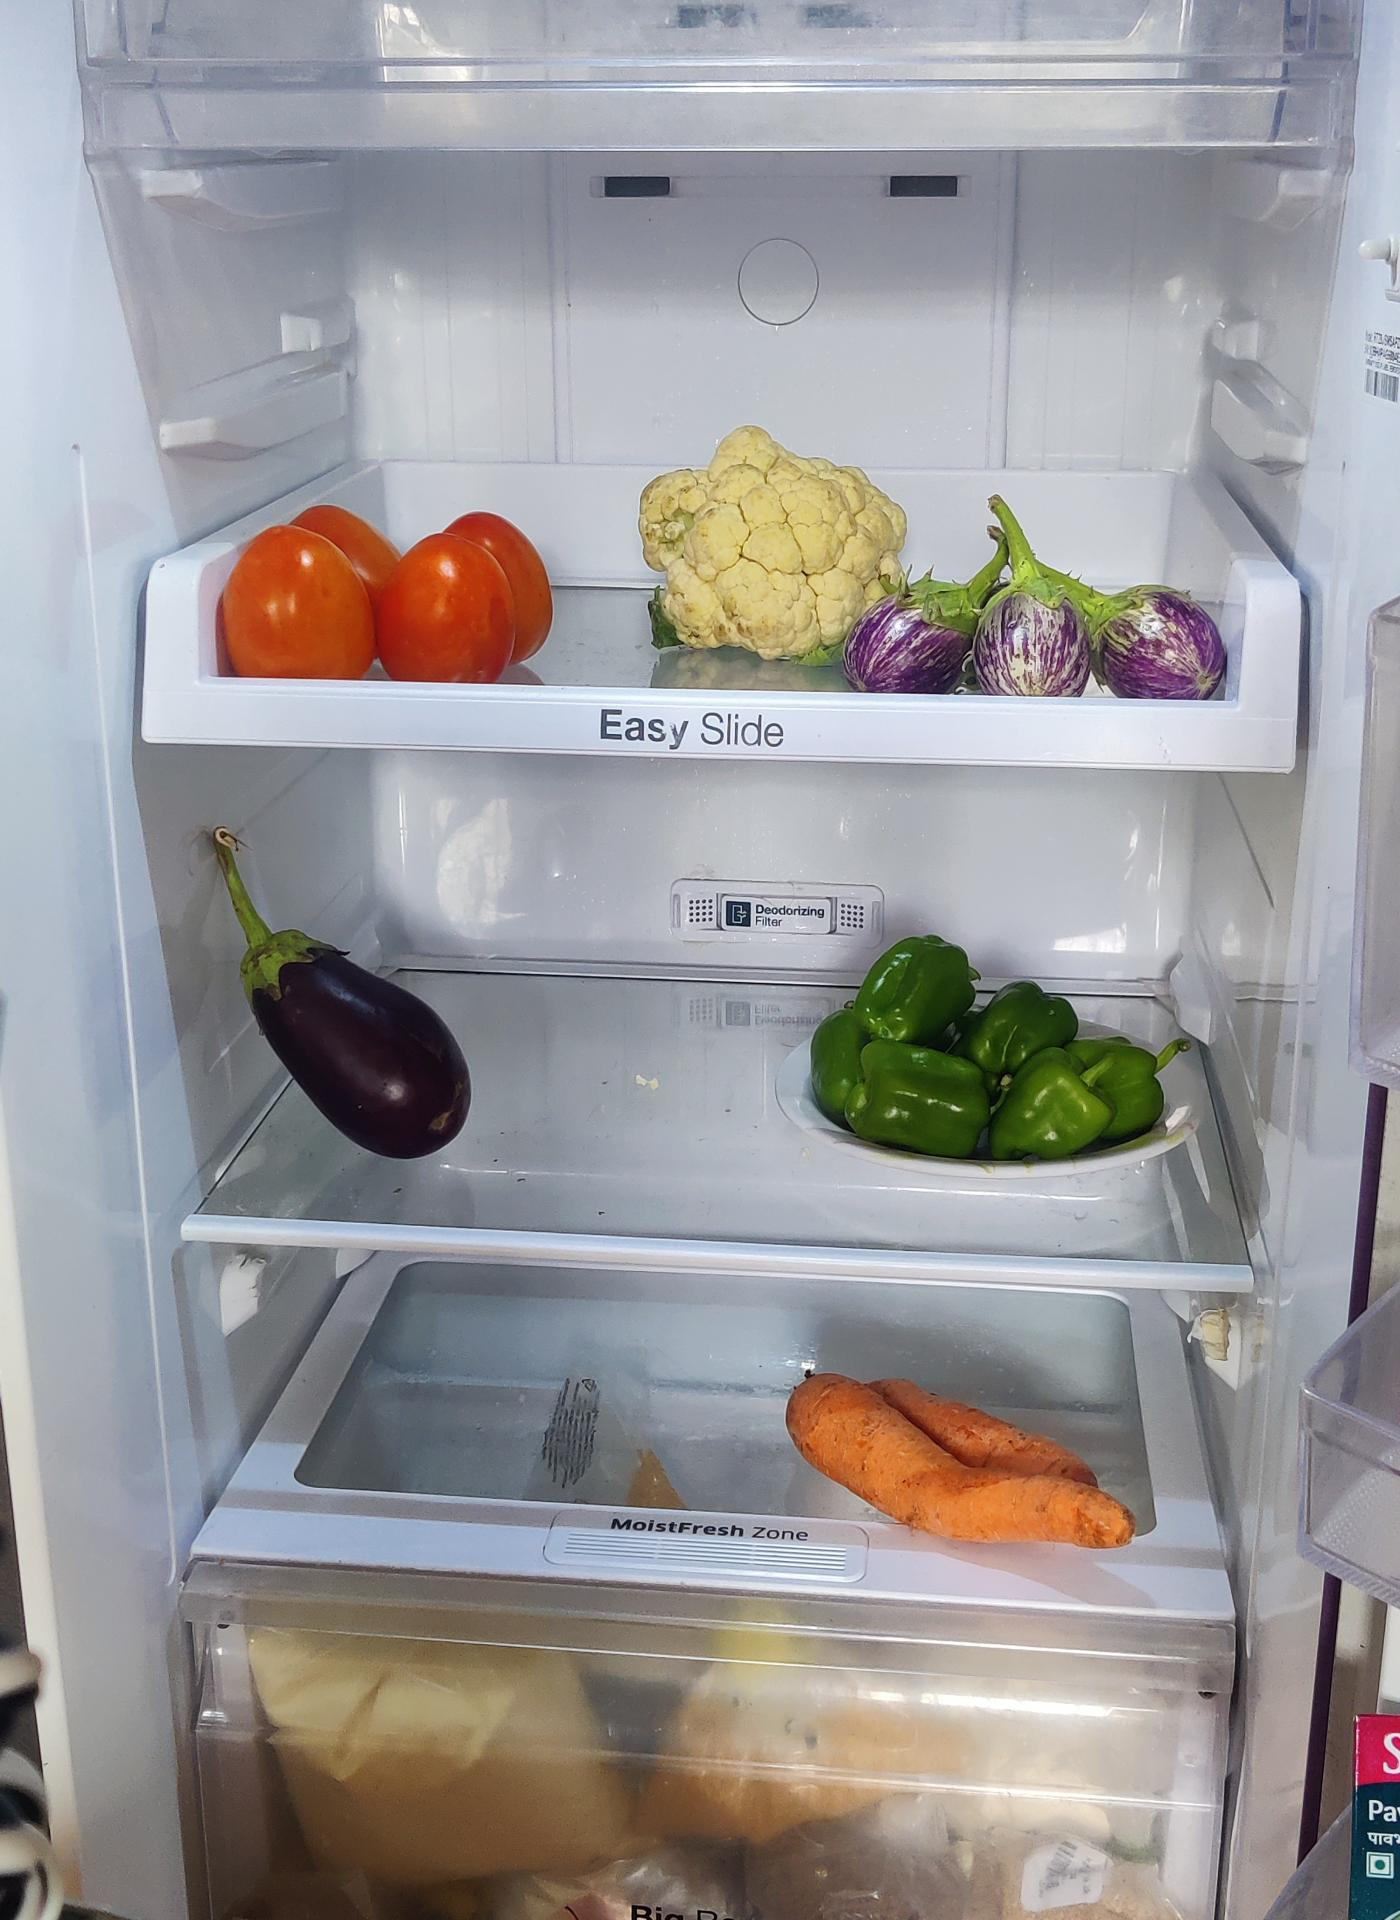brinjal: (201, 812, 479, 1161), (874, 544, 1226, 701)
capsicum: (802, 929, 1182, 1158)
carrots: (781, 1368, 1144, 1553)
cauliflower: (641, 431, 911, 666)
tomato: (215, 508, 561, 686)
